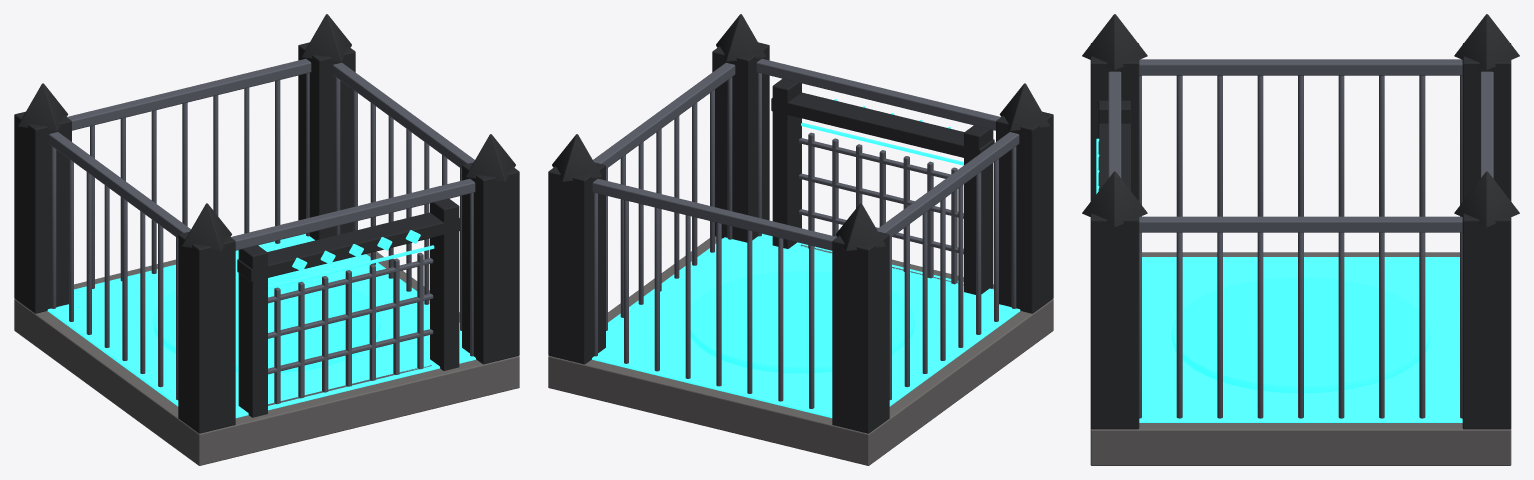
Rendered from MonsterHub_VEX_Pit.glb.
The picture shows the model from 3 angles, left to right: view 1: azimuth 30°, elevation 25°; view 2: azimuth 150°, elevation 25°; view 3: azimuth 270°, elevation 25°; orthographic projection. The views are drawn at different scales.
Parts seen in each view (by area): view 1: MonsterHub_VEX_Pit, MonsterHub_VEX_Pit_Gate; view 2: MonsterHub_VEX_Pit, MonsterHub_VEX_Pit_Gate; view 3: MonsterHub_VEX_Pit.
Boxes of the visible parts, x1,y1,x2,y2 form: MonsterHub_VEX_Pit: [14, 14, 519, 465]; MonsterHub_VEX_Pit_Gate: [268, 245, 434, 405]; MonsterHub_VEX_Pit: [548, 14, 1053, 465]; MonsterHub_VEX_Pit_Gate: [798, 122, 963, 285]; MonsterHub_VEX_Pit: [1082, 14, 1519, 465].
Size of the model in its own units: 5.41 by 3.89 by 5.41.
